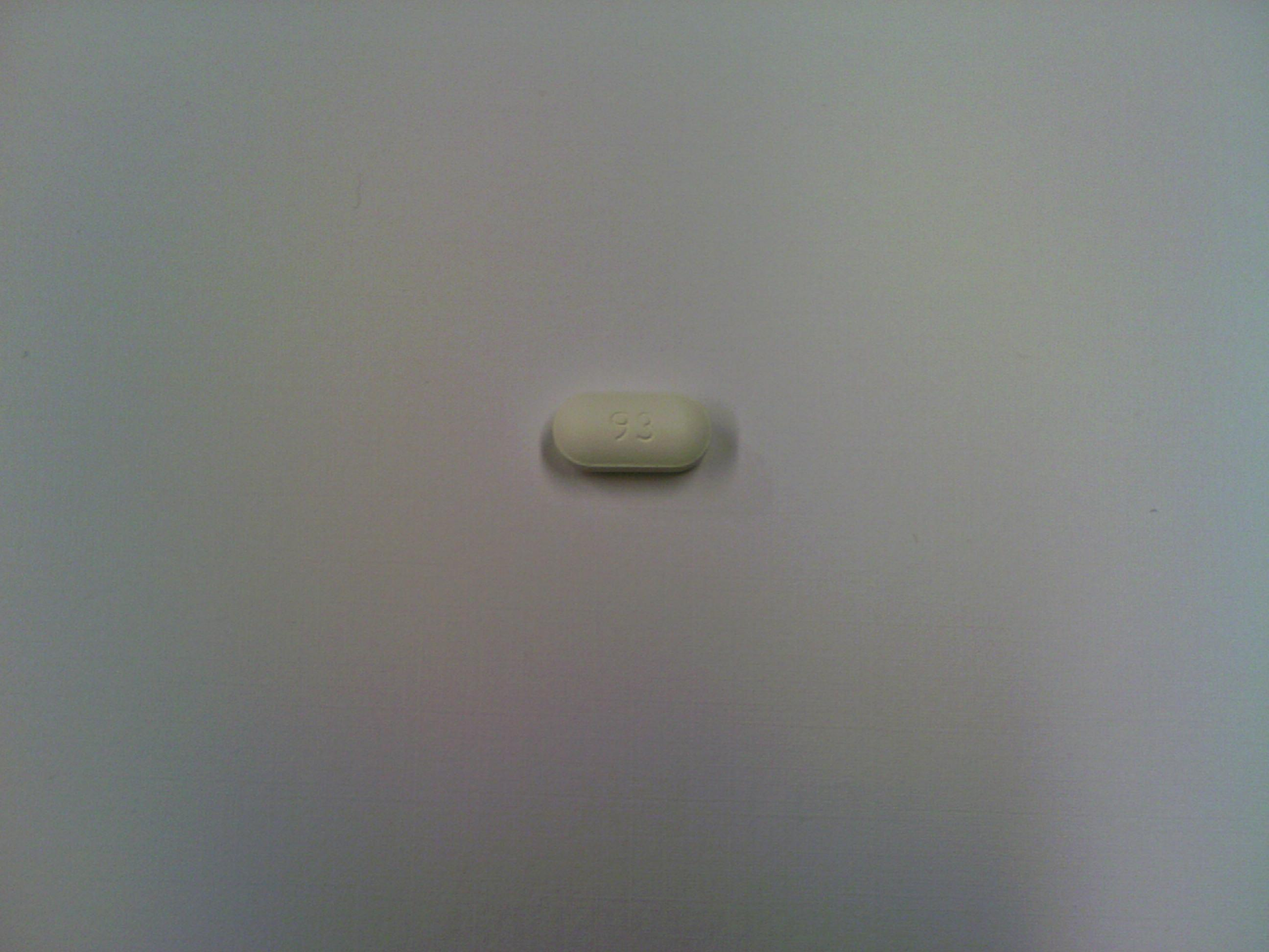Pill: (545, 384, 720, 480)
